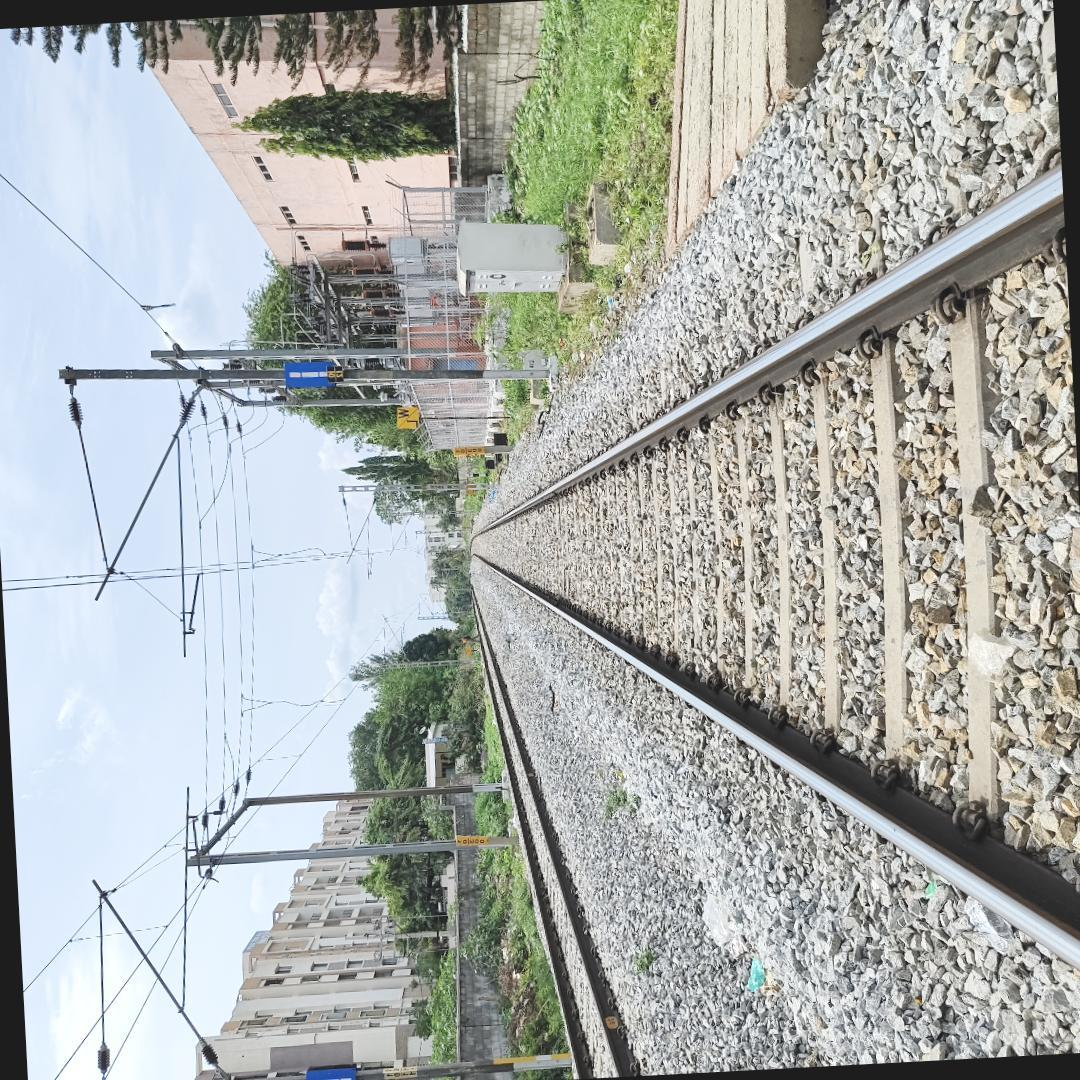track: (452, 135, 1080, 1002)
